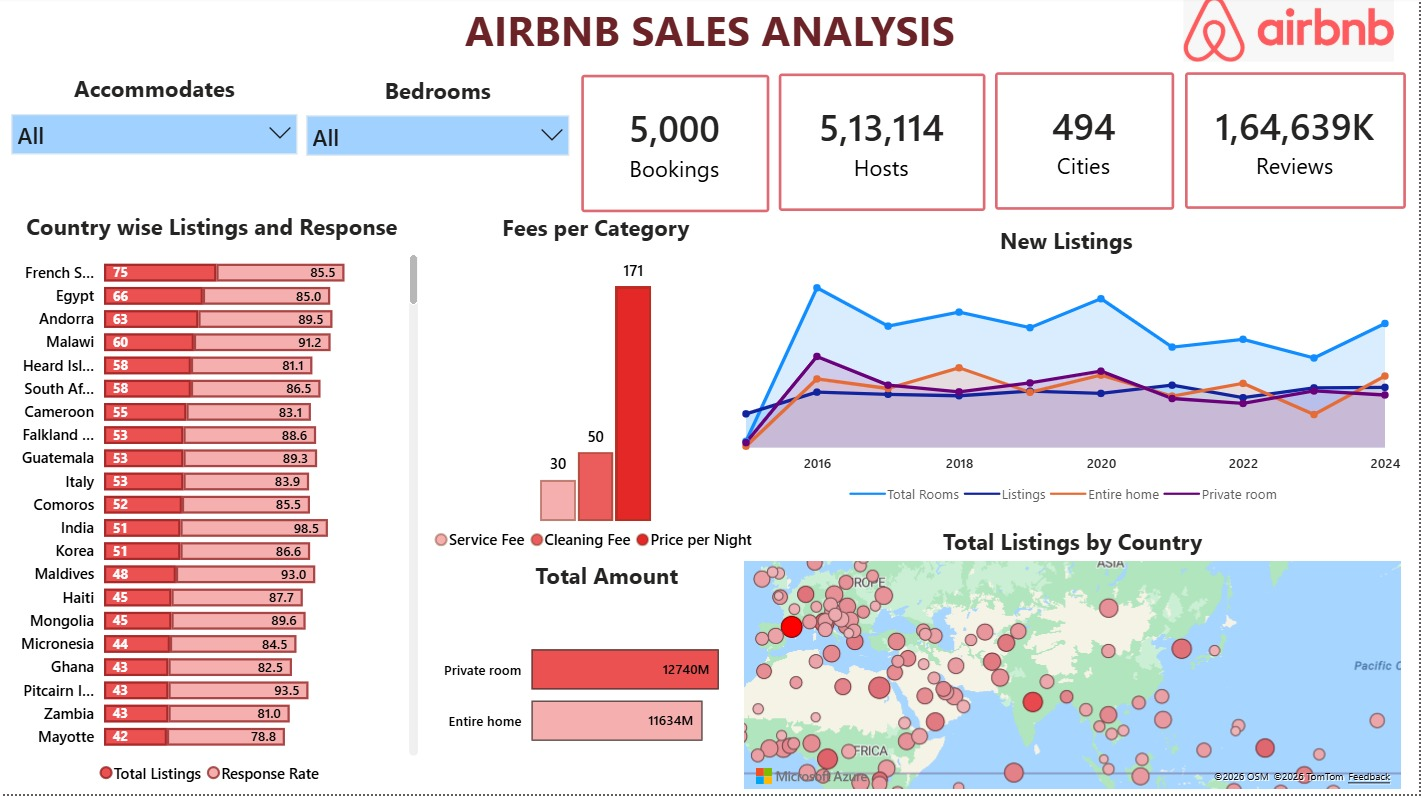

This screenshot's page, from the dashboard's own definition file:
{"tool":"powerbi","page":{"name":"Page 1","canvas":[1280,720],"ordinal":0},"visuals":[{"type":"cardVisual","fields":{"Data":["Count(DIM_BOOKINGS.BOOKING_ID)"]},"box":[523.6,71.1,169.2,123.9],"z":0},{"type":"cardVisual","fields":{"Data":["Sum(DIM_HOSTS.HOST_ID)"]},"box":[702.7,69.9,186.4,123.9],"z":1000},{"type":"cardVisual","fields":{"Data":["Count(DIM_LISTINGS.CITY)"]},"box":[897.6,68.7,161.9,123.9],"z":2000},{"type":"cardVisual","fields":{"Data":["Sum(FACT.RESPONSE_RATE)"]},"box":[1068.8,68.5,199.3,123.5],"z":3000},{"type":"lineChart","title":"New Listings","fields":{"Category":["DIM_HOSTS.HOST_SINCE.Variation.Date Hierarchy.Year"],"Y":["CountNonNull(DIM_LISTINGS.ROOM_TYPE)","FACT.Count of lsiting_id","DIM_LISTINGS.entire home","DIM_LISTINGS.Private room"]},"box":[654.8,206,613.1,261.2],"z":4000},{"type":"barChart","title":"Total Amount","fields":{"Category":["DIM_LISTINGS.ROOM_TYPE"],"Y":["Sum(FACT.TOTAL_AMOUNT)"]},"box":[394.3,508.7,305.5,211.8],"z":5000},{"type":"azureMap","title":"Total Listings by Country","fields":{"Category":["DIM_LISTINGS.COUNTRY"],"Size":["DIM_LISTINGS.count of listing_id"]},"box":[665.9,478.3,602.1,241.6],"z":6000},{"type":"textbox","box":[0,0,1280.3,68.5],"z":7000},{"type":"barChart","title":"Country wise Listings and Response","fields":{"Category":["DIM_LISTINGS.COUNTRY"],"Y":["DIM_LISTINGS.count of listing_id","DIM_LISTINGS.Response Rate"]},"box":[0,193.5,382.1,525.7],"z":8000},{"type":"slicer","title":"Bedrooms","fields":{"Values":["FACT.BEDROOMS"]},"box":[266.1,71.1,257.5,106.7],"z":9000},{"type":"slicer","title":"Accommodates","fields":{"Values":["FACT.ACCOMMODATES"]},"box":[0,69.9,278.4,107.9],"z":10000},{"type":"clusteredColumnChart","title":"Fees per Category","fields":{"Y":["Divide(Sum(FACT.SERVICE_FEE), ScopedEval(Sum(FACT.SERVICE_FEE), []))","Avg(FACT.CLEANING_FEE)","Avg(FACT.PRICE_PER_NIGHT)"]},"box":[382.1,194.7,310.3,314],"z":11000},{"type":"image","box":[1045.4,0,234.9,59.3],"z":11001}]}

Visuals, with their boxes in screenshot pixels (x1, y1, x2, y2), scaled from the page's 1280x720 canvas onto the 1421x796 screenshot:
cardVisual - Count(DIM_BOOKINGS.BOOKING_ID): <region>581, 79, 769, 216</region>
cardVisual - Sum(DIM_HOSTS.HOST_ID): <region>780, 77, 987, 214</region>
cardVisual - Count(DIM_LISTINGS.CITY): <region>996, 76, 1176, 213</region>
cardVisual - Sum(FACT.RESPONSE_RATE): <region>1187, 76, 1408, 212</region>
"New Listings" lineChart: <region>727, 228, 1408, 517</region>
"Total Amount" barChart: <region>438, 562, 777, 795</region>
"Total Listings by Country" azureMap: <region>739, 529, 1408, 795</region>
textbox: <region>0, 0, 1420, 76</region>
"Country wise Listings and Response" barChart: <region>0, 214, 424, 795</region>
"Bedrooms" slicer: <region>295, 79, 581, 197</region>
"Accommodates" slicer: <region>0, 77, 309, 197</region>
"Fees per Category" clusteredColumnChart: <region>424, 215, 769, 562</region>
image: <region>1161, 0, 1420, 66</region>
